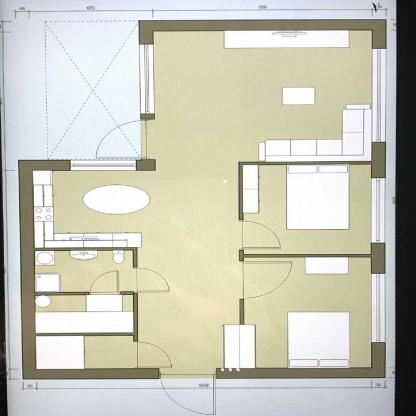door: (159, 368, 219, 415), (88, 111, 148, 157), (239, 261, 292, 300), (238, 221, 283, 254), (136, 341, 172, 369), (87, 270, 123, 294), (137, 267, 170, 292)
window: (370, 50, 385, 142), (371, 178, 387, 247), (140, 42, 155, 114), (372, 272, 386, 344), (70, 159, 135, 171)
zone: (154, 29, 374, 161), (32, 168, 243, 249), (241, 256, 372, 368), (139, 250, 239, 372), (242, 164, 372, 256), (246, 164, 372, 254), (35, 248, 137, 292), (35, 295, 131, 331), (38, 336, 138, 368)
